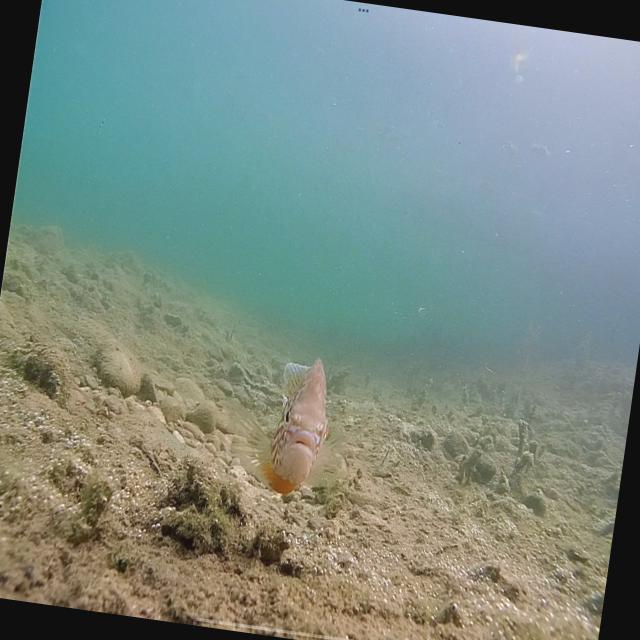Gunes Levregi: (256, 350, 340, 502)
